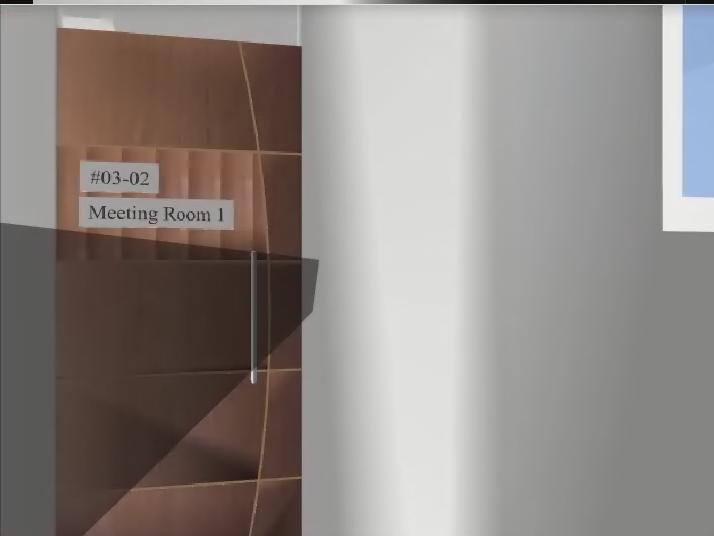door: (55, 27, 301, 536)
